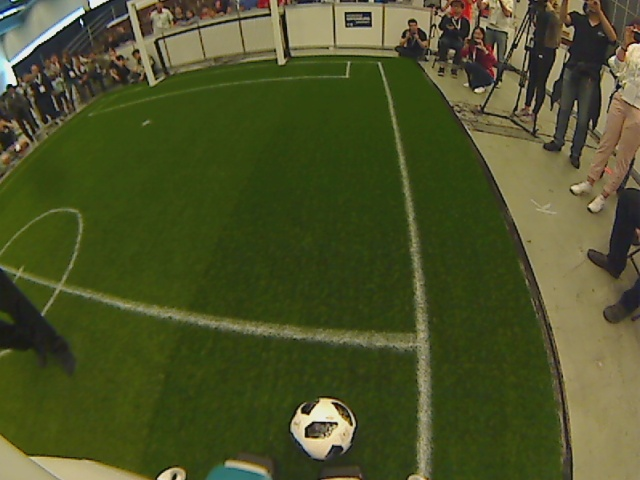ball: (289, 395, 359, 463)
